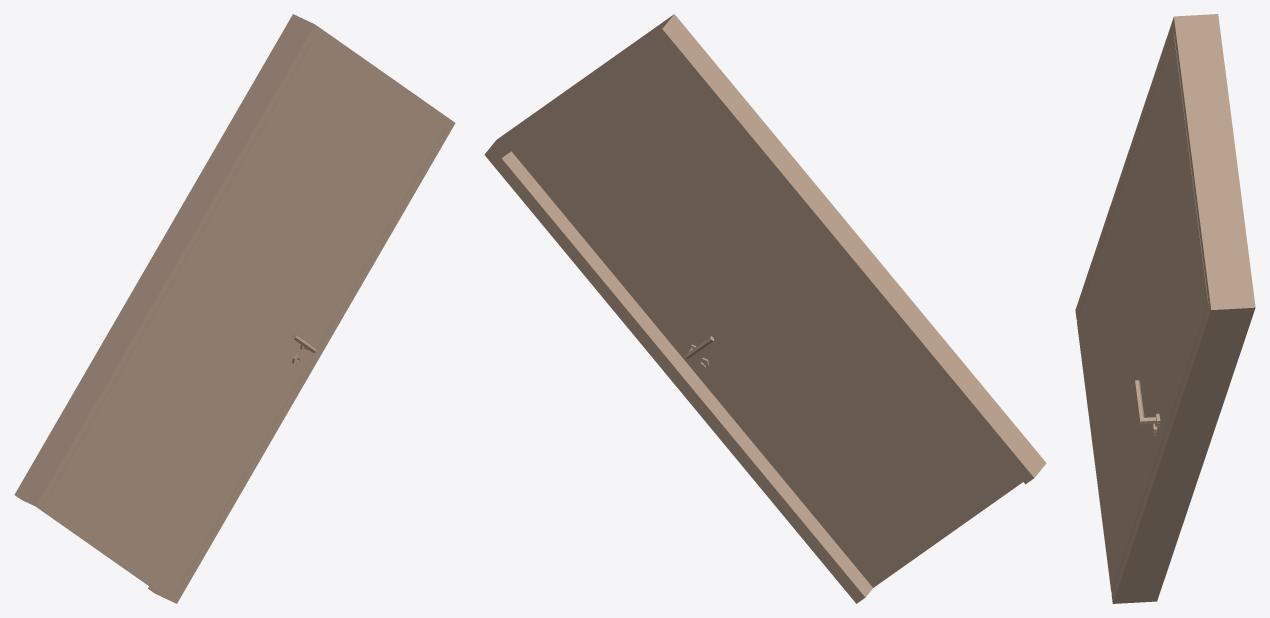
3 views of the same model, side by side, from view 1: azimuth 30°, elevation 25°; view 2: azimuth 150°, elevation 25°; view 3: azimuth 270°, elevation 25° (orthographic). The views are drawn at different scales.
Parts seen in each view (by area): view 1: mesh; view 2: mesh; view 3: mesh.
Boxes of the visible parts, box(x1,y1,x2,y2) form: mesh: box(14, 14, 455, 603); mesh: box(484, 14, 1046, 603); mesh: box(1075, 14, 1255, 603).
Bounding box in the file's own units: 2.01 × 2.12 × 0.5001.
